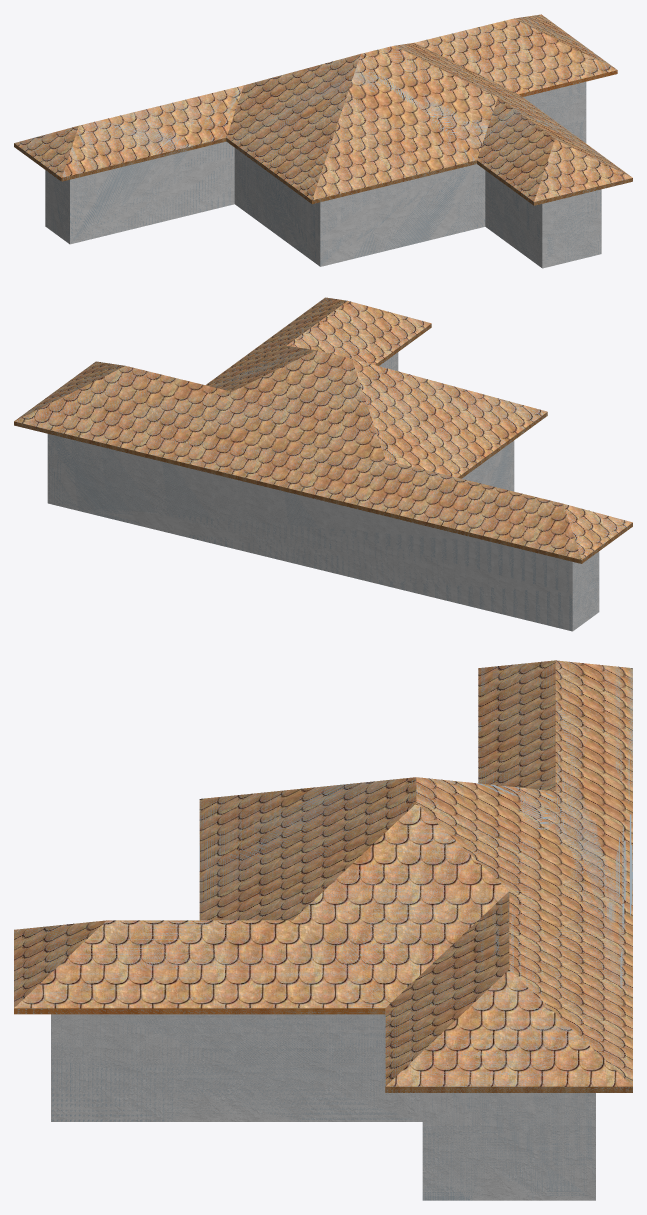
The model's file is casa1.dae.
3 views of the same model, one above another, from view 1: azimuth 30°, elevation 25°; view 2: azimuth 150°, elevation 25°; view 3: azimuth 270°, elevation 25° (orthographic). The views are drawn at different scales.
Parts seen in each view (by area): view 1: SketchUp (×4); view 2: SketchUp (×3); view 3: SketchUp (×4).
Part boxes in pixels (x1,y1,x2,y2): SketchUp (×4): [14, 14, 632, 268]; SketchUp (×3): [14, 297, 632, 631]; SketchUp (×4): [14, 660, 632, 1200].
Size of the model in its own units: 40.04 by 25.03 by 10.84.
Materials: 6 (4 with a texture image).
